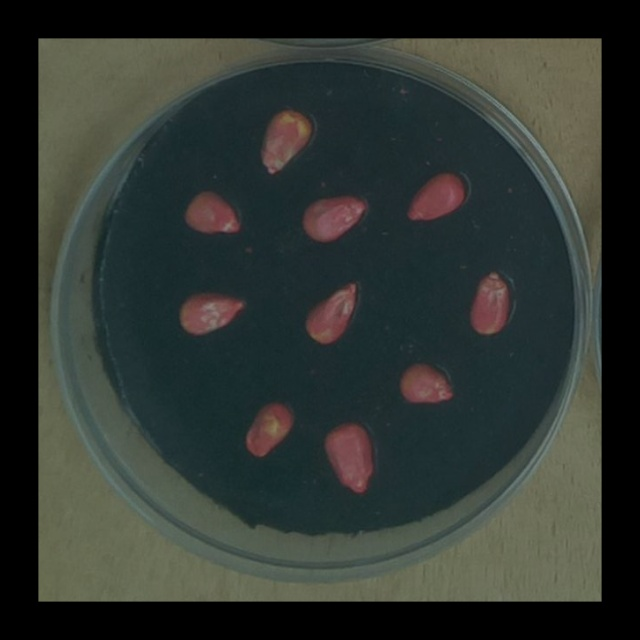Zea mays: (319, 412, 380, 499), (254, 104, 319, 179), (299, 276, 364, 350), (298, 188, 373, 247), (173, 284, 250, 341), (401, 165, 471, 225), (239, 394, 299, 462), (179, 183, 249, 241), (463, 264, 516, 340), (393, 355, 460, 408)
